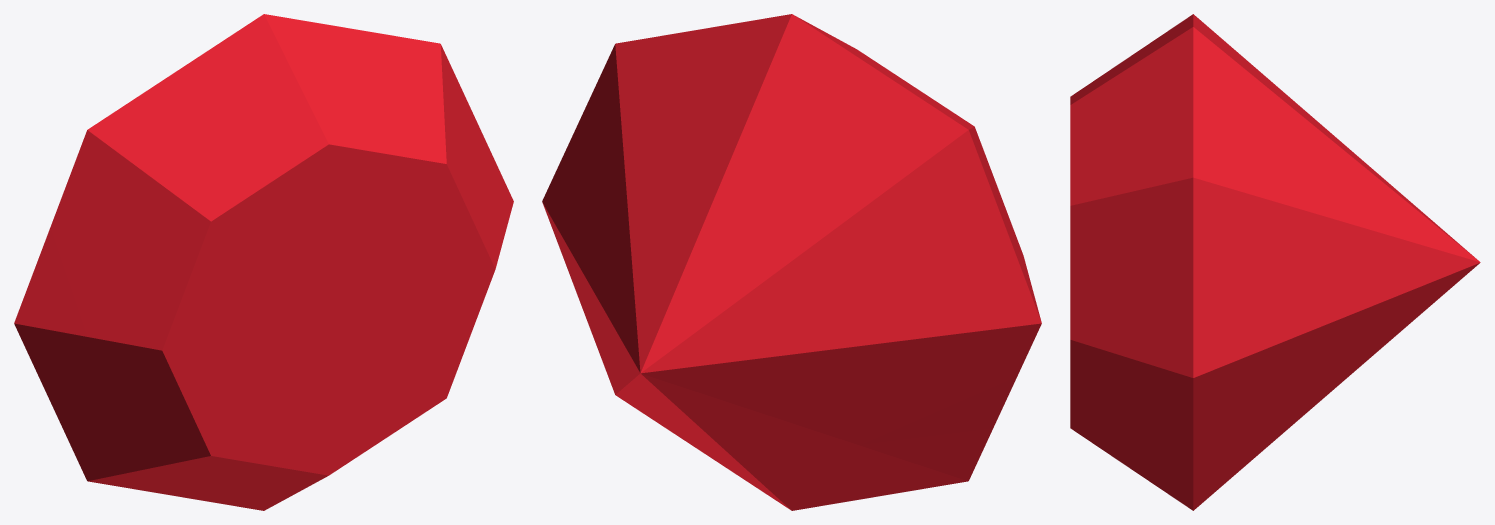
The model's file is tinker.obj.
3 renders of one model, left to right at view 1: azimuth 30°, elevation 25°; view 2: azimuth 150°, elevation 25°; view 3: azimuth 270°, elevation 25°, orthographic. The views are drawn at different scales.
Visible parts, largest first — view 1: obj_0; view 2: obj_0; view 3: obj_0.
Boxes of the visible parts, x1,y1,x2,y2 form: obj_0: (14,14,513,510); obj_0: (542,14,1041,510); obj_0: (1070,14,1480,510).
Size of the model in its own units: 20 by 19 by 15.
